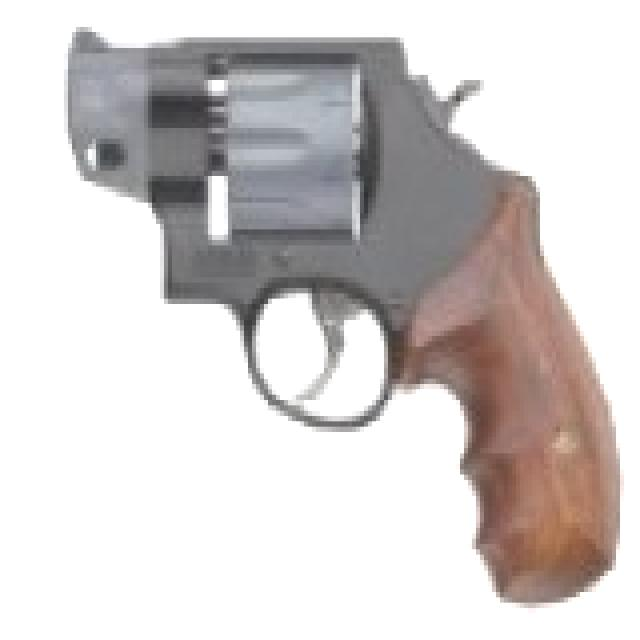pistol: (76, 21, 632, 592)
